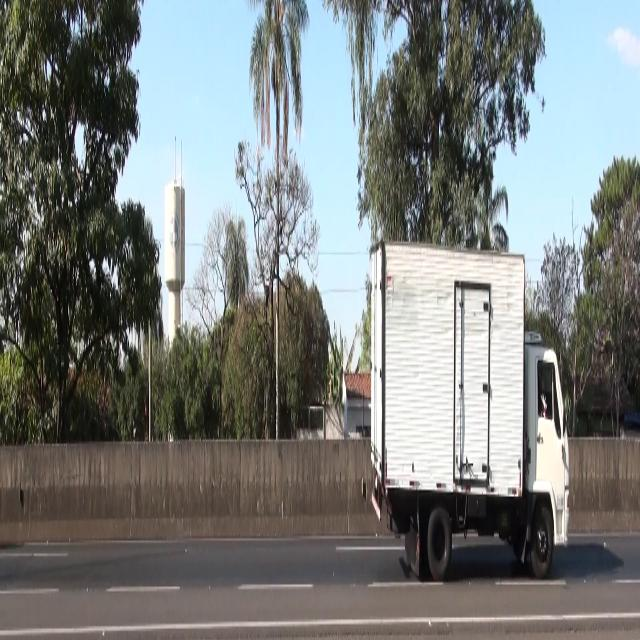-axle: (427, 501, 452, 585), (532, 503, 554, 583)
